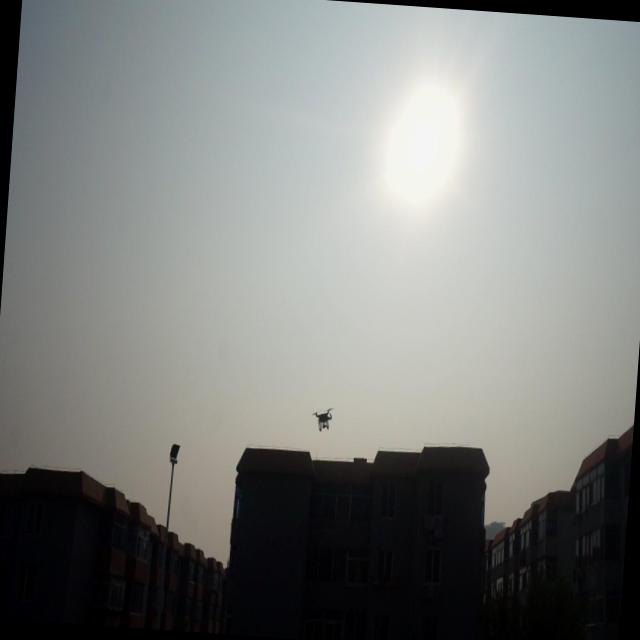drone: (309, 402, 336, 434)
